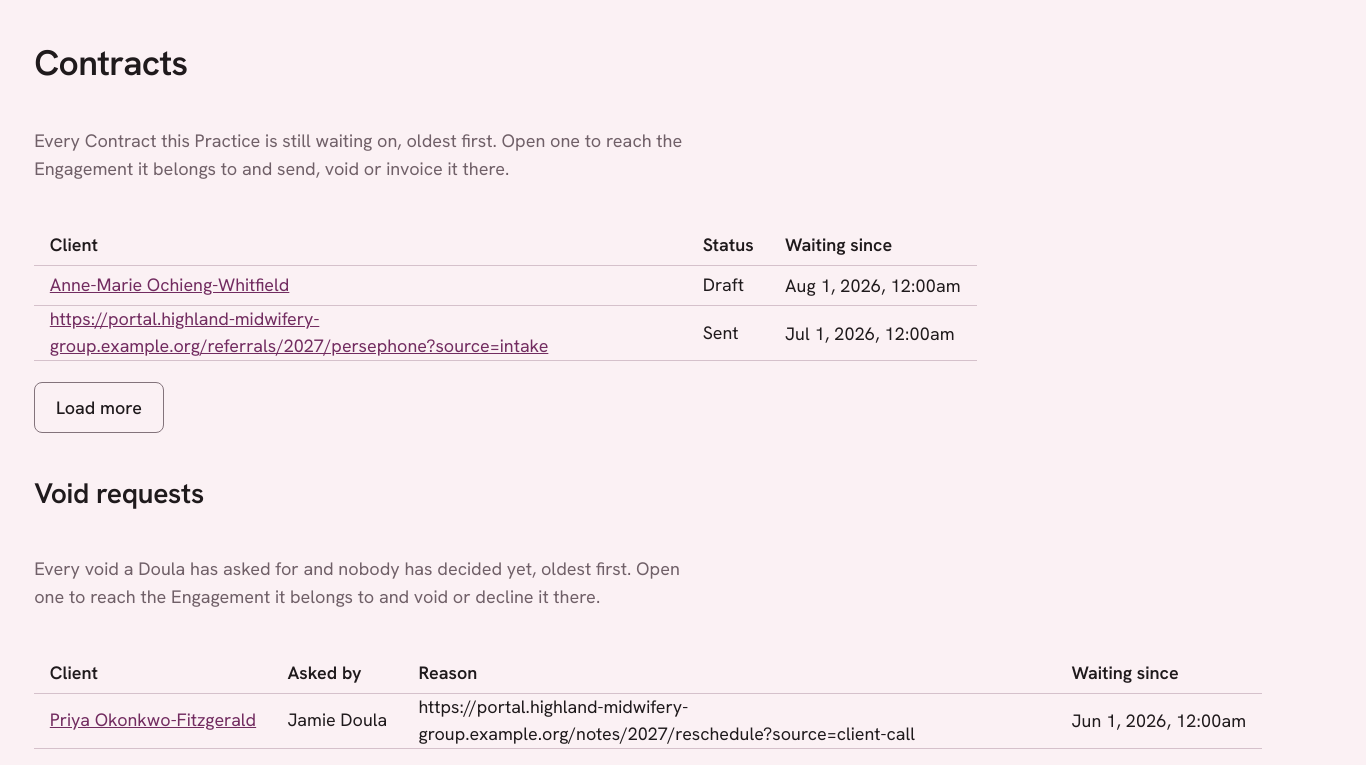
Test: the Practice-wide Contracts awaiting signature list (#273) › reports a failed next page in place rather than losing the list
Click the button "Load more" at (99, 408), box [34,382,164,433]
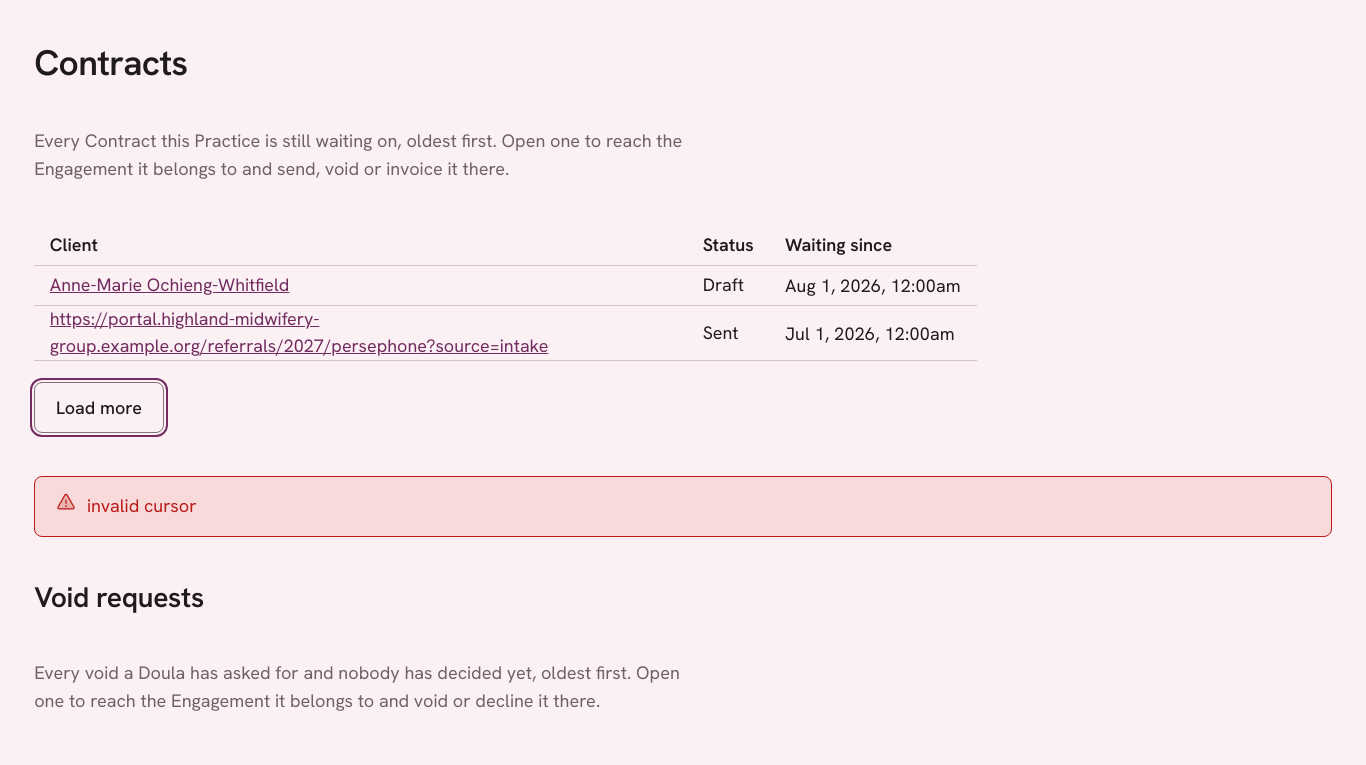
Expected: the link "Anne-Marie Ochieng-Whitfield" is shown, [50,273,289,296]
Now the message reads "invalid cursor", box [87,494,197,518]
